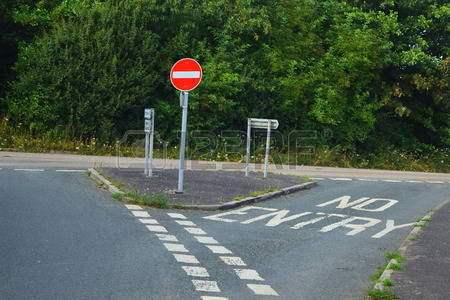No_entry: (169, 57, 203, 92)
